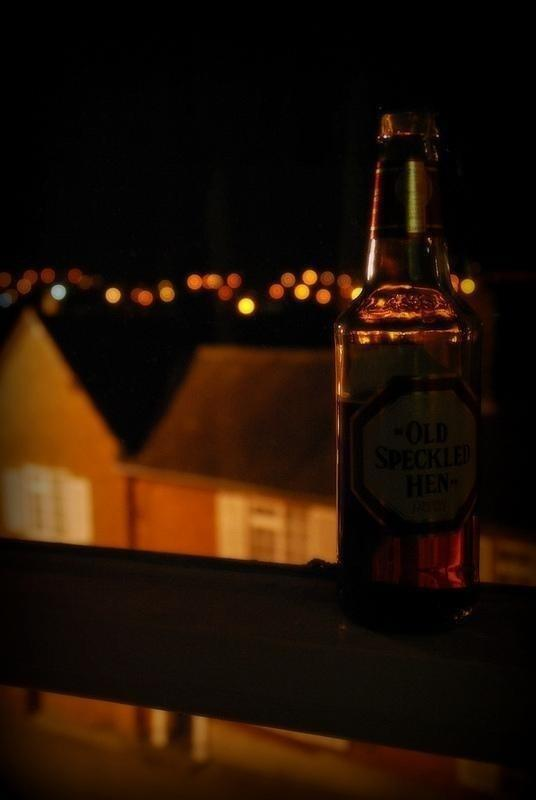bottle-glass: (321, 112, 491, 633)
